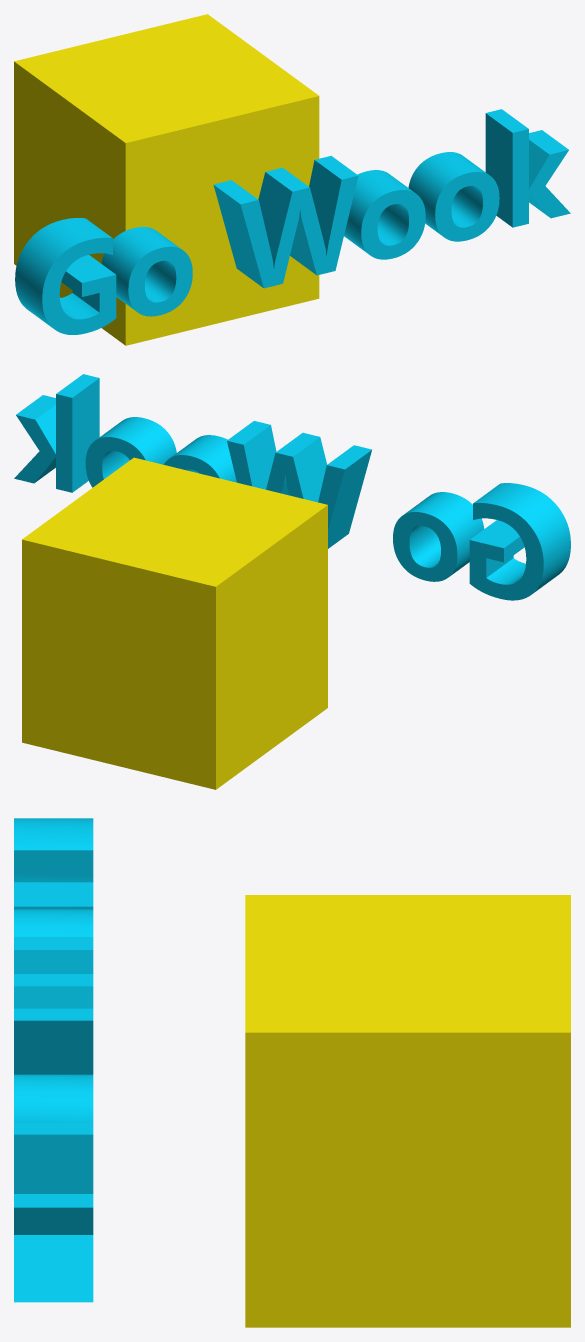
The model's file is GoWook.gltf.
The picture shows the model from 3 angles, top to bottom: view 1: azimuth 30°, elevation 25°; view 2: azimuth 150°, elevation 25°; view 3: azimuth 270°, elevation 25°; orthographic projection. The views are drawn at different scales.
Parts seen in each view (by area): view 1: Cube, o (×3), W, G, k; view 2: Cube, o (×3), G, W, k; view 3: Cube, k, W, G, o (×2).
Boxes of the visible parts, x1,y1,x2,y2 form: Cube: [14, 14, 319, 345]; o (×3): [101, 152, 499, 316]; W: [213, 155, 358, 288]; G: [15, 218, 116, 334]; k: [485, 109, 570, 227]; Cube: [22, 457, 327, 789]; o (×3): [85, 417, 484, 581]; G: [469, 483, 570, 600]; W: [227, 421, 371, 548]; k: [14, 374, 99, 492]; Cube: [245, 895, 570, 1327]; k: [14, 1123, 93, 1302]; W: [14, 937, 93, 1074]; G: [14, 818, 93, 909]; o (×2): [14, 909, 93, 1122].
Size of the model in its own units: 956 by 350 by 599.
